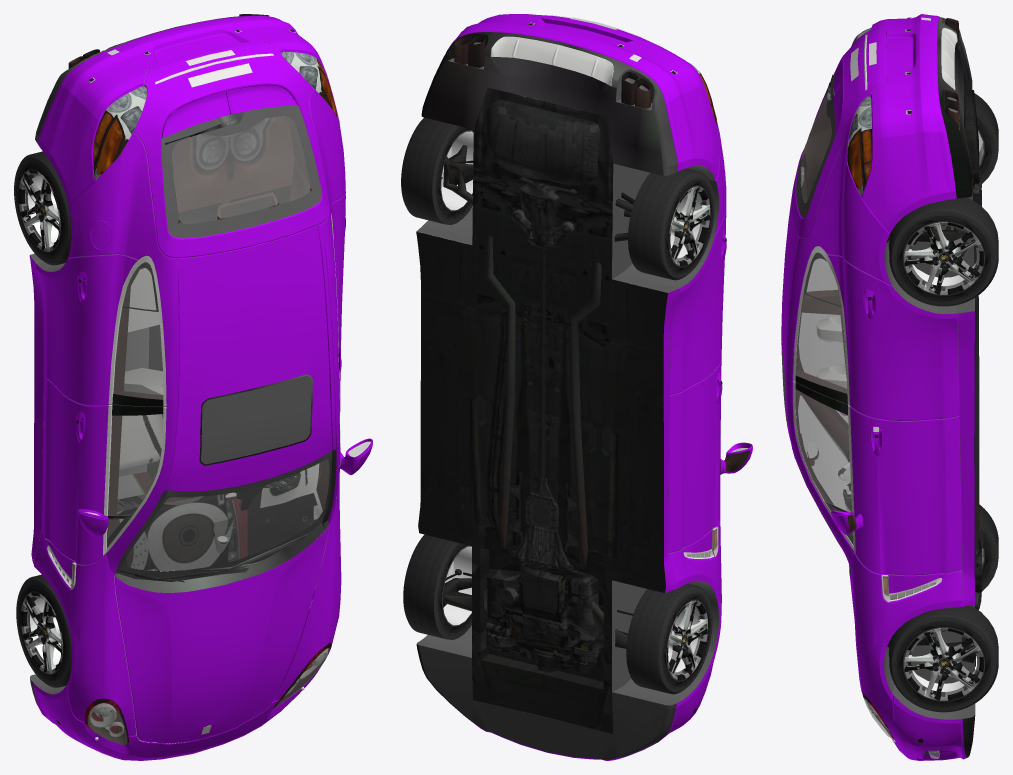
3 views of the same model, side by side, from view 1: azimuth 30°, elevation 25°; view 2: azimuth 150°, elevation 25°; view 3: azimuth 270°, elevation 25° (orthographic). The views are drawn at different scales.
Parts seen in each view (by area): view 1: object0, Object01, Object02; view 2: object0, Object01, Object02; view 3: object0, Object01, Object02.
Boxes of the visible parts, x1=… form: object0: x1=27, y1=14, x2=372, y2=760; Object01: x1=14, y1=151, x2=290, y2=687; Object02: x1=18, y1=170, x2=62, y2=673; object0: x1=416, y1=14, x2=752, y2=760; Object01: x1=401, y1=117, x2=714, y2=694; Object02: x1=441, y1=177, x2=710, y2=680; object0: x1=781, y1=14, x2=983, y2=760; Object01: x1=889, y1=93, x2=998, y2=712; Object02: x1=904, y1=222, x2=983, y2=700.
Size of the model in its own units: 27.29 by 63.87 by 18.18.
11 materials, 7 textured.
